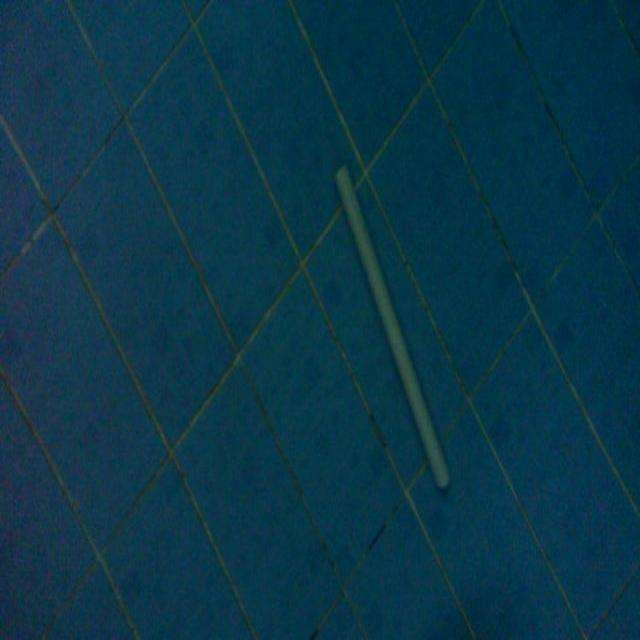Cube: (332, 158, 452, 492)
